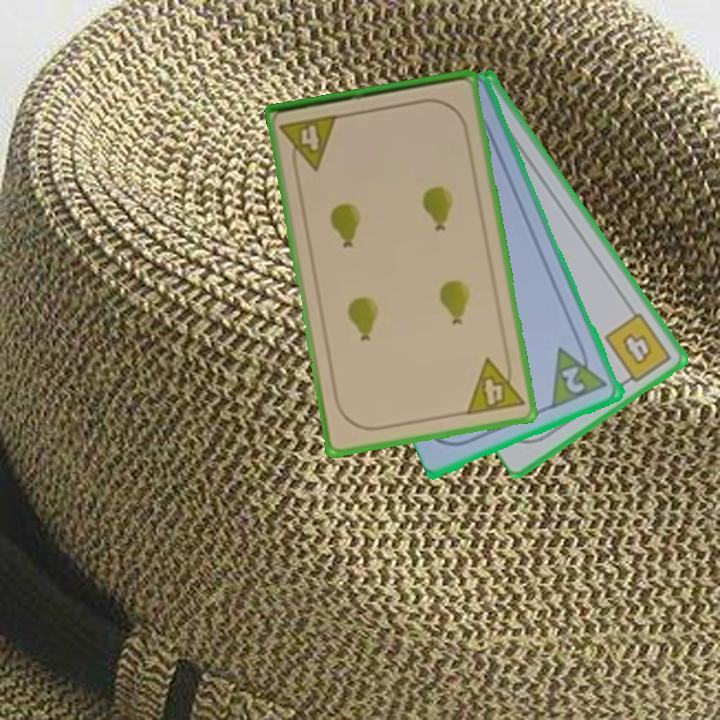2p: (558, 363, 589, 397)
4b: (601, 309, 675, 389)
4p: (462, 351, 527, 418), (277, 111, 341, 176)
